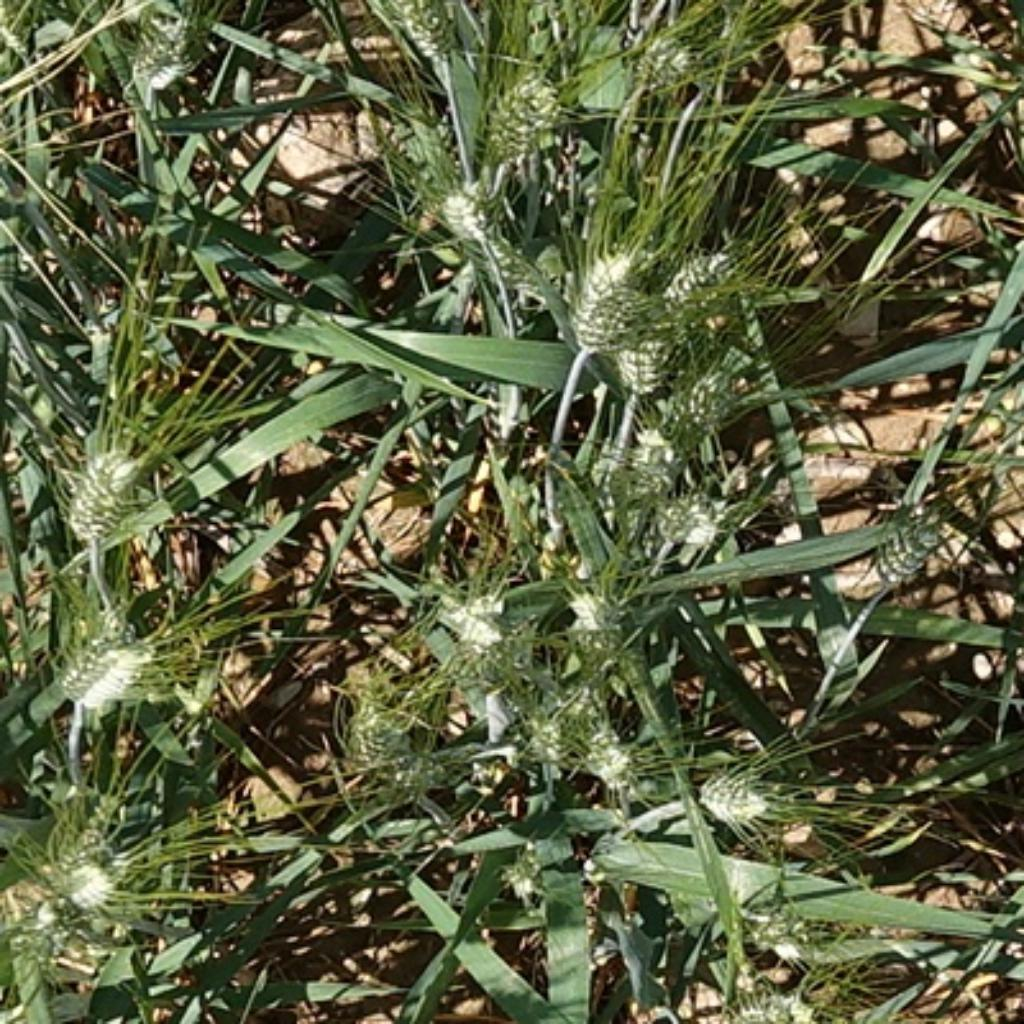0-0: (560, 230, 675, 363), (430, 181, 550, 307), (857, 483, 983, 601), (422, 568, 529, 680), (471, 48, 573, 161), (41, 627, 163, 711), (739, 885, 865, 960), (664, 248, 762, 344), (563, 576, 650, 680), (601, 291, 683, 399), (496, 693, 586, 788), (73, 443, 155, 544), (424, 176, 509, 258), (133, 7, 214, 93), (619, 12, 706, 92), (322, 669, 394, 761), (368, 2, 465, 64), (705, 983, 841, 1024), (56, 842, 121, 926), (681, 365, 752, 439), (632, 418, 691, 499), (656, 487, 732, 548), (578, 714, 642, 785), (491, 847, 558, 911), (691, 773, 777, 821)
